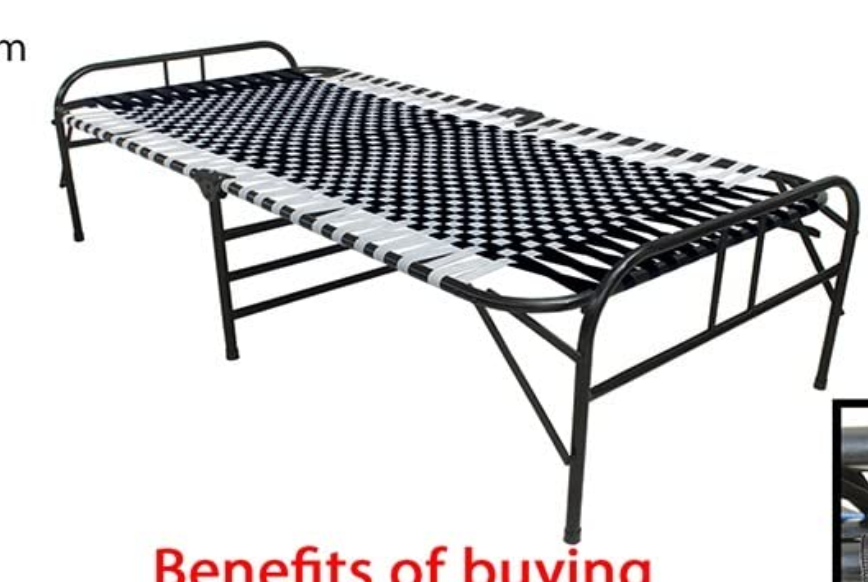cot: (45, 36, 860, 544)
